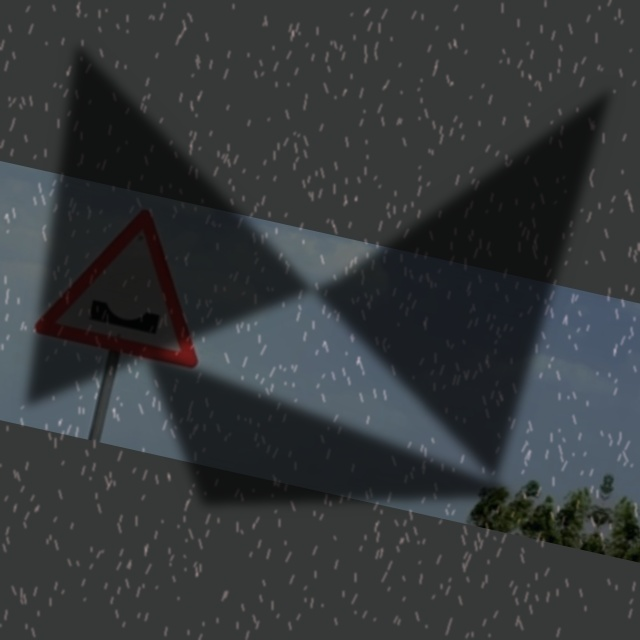Dangerous_Dip: (38, 194, 228, 370)
